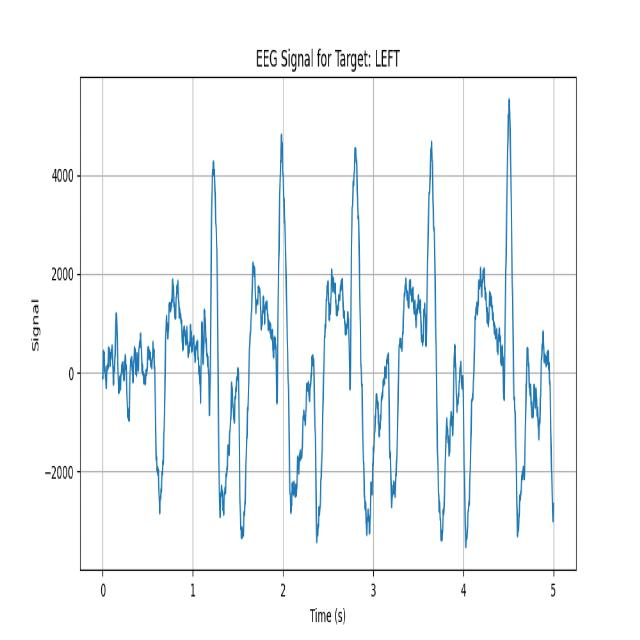LEFT: (457, 95, 537, 555), (381, 110, 459, 545), (306, 116, 382, 547), (155, 153, 237, 538), (237, 119, 306, 537)
